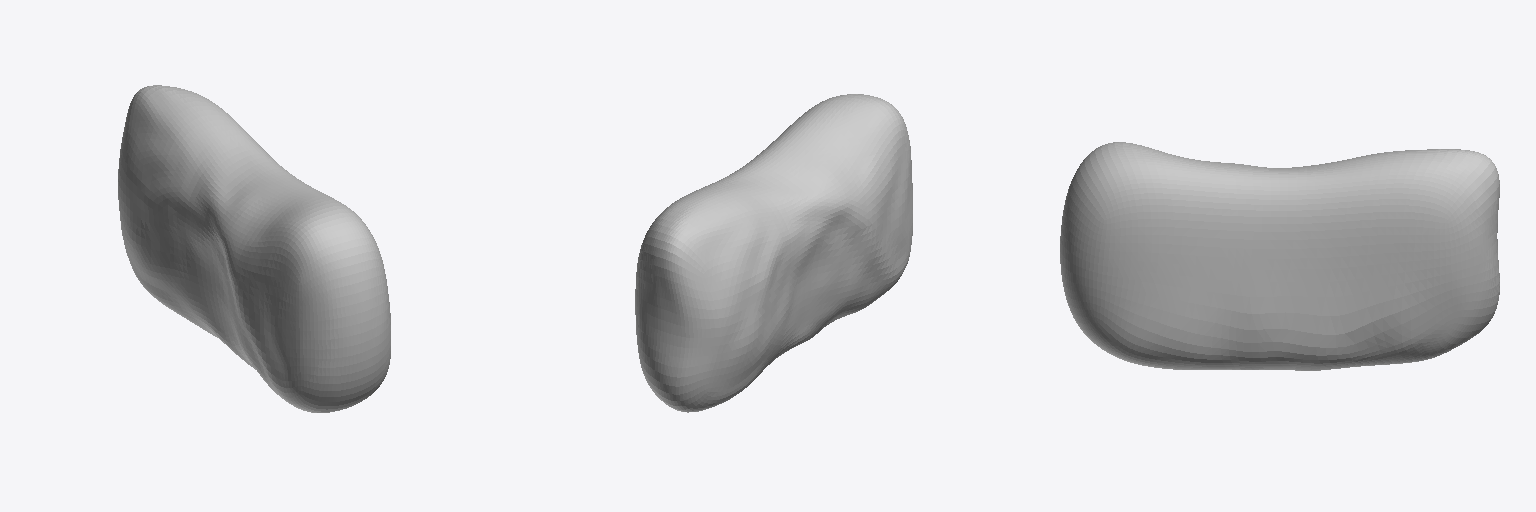
The model's file is pillow1.obj.
3 views of the same model, side by side, from view 1: azimuth 30°, elevation 25°; view 2: azimuth 150°, elevation 25°; view 3: azimuth 270°, elevation 25° (orthographic).
Parts seen in each view (by area): view 1: pillow_Cube.014; view 2: pillow_Cube.014; view 3: pillow_Cube.014.
Boxes of the visible parts, x1=… form: pillow_Cube.014: x1=118, y1=85, x2=390, y2=412; pillow_Cube.014: x1=635, y1=94, x2=912, y2=412; pillow_Cube.014: x1=1060, y1=142, x2=1499, y2=370.
Bounding box in the file's own units: 1.86 × 3.03 × 5.81.